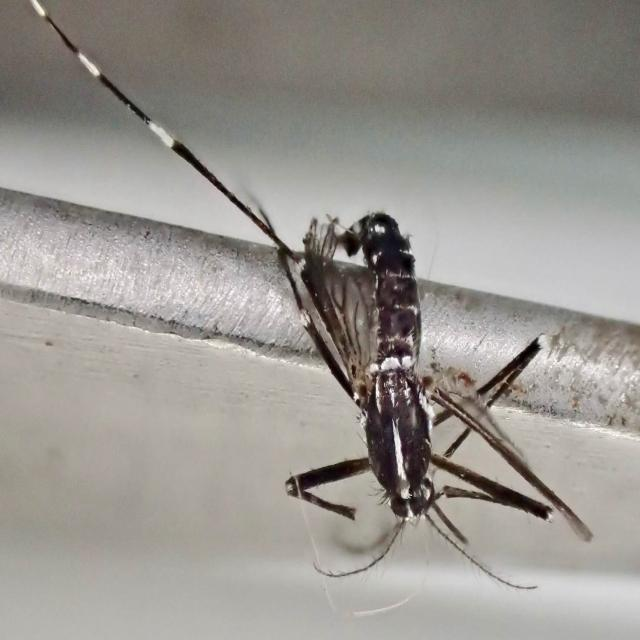albopictus: (223, 170, 579, 606)
